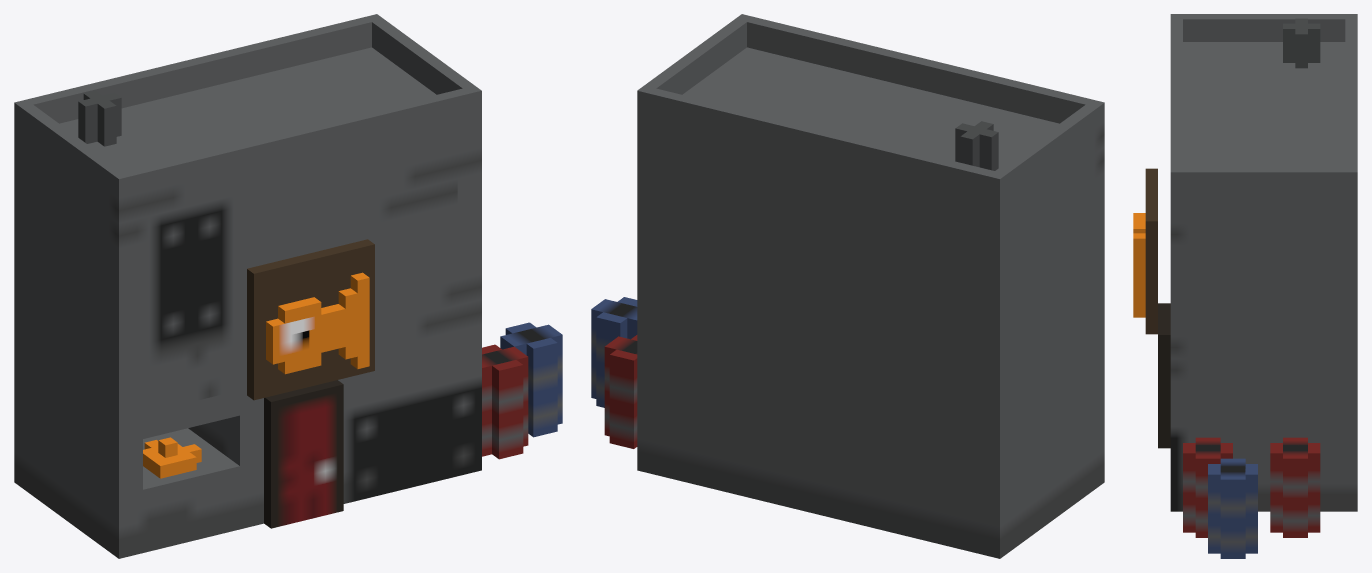
File: Fish2.dae
The picture shows the model from 3 angles, left to right: view 1: azimuth 30°, elevation 25°; view 2: azimuth 150°, elevation 25°; view 3: azimuth 270°, elevation 25°; orthographic projection. The views are drawn at different scales.
Parts seen in each view (by area): view 1: Fish2; view 2: Fish2; view 3: Fish2.
Part boxes in pixels (x1,y1,x2,y2): Fish2: [14, 14, 562, 558]; Fish2: [591, 14, 1104, 558]; Fish2: [1133, 14, 1357, 558].
Bounding box in the file's own units: 39 × 31 × 18.
Materials: 1 (1 with a texture image).
